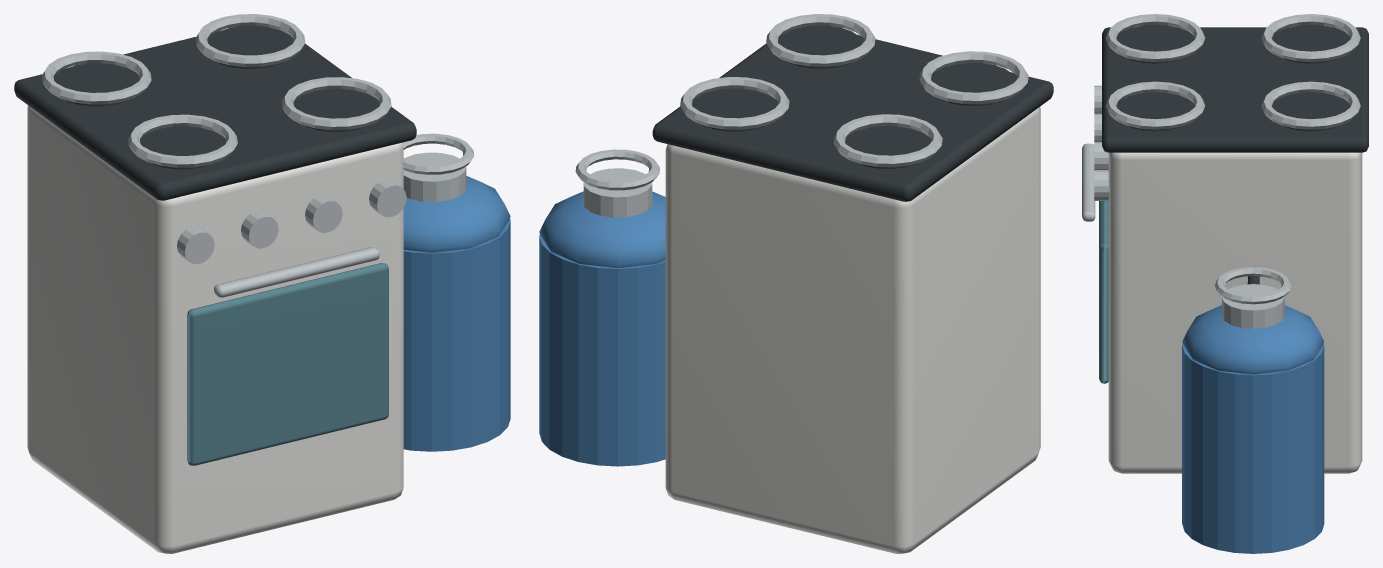
Rendered from gas_cooker_with_cylinder.glb.
3 renders of one model, left to right at view 1: azimuth 30°, elevation 25°; view 2: azimuth 150°, elevation 25°; view 3: azimuth 270°, elevation 25°, orthographic. The views are drawn at different scales.
Parts seen in each view (by area): view 1: oven, oven door, hob, gas bottle, cylinder shoulder, burner ring.001, burner ring, burner ring.002, burner ring.003, oven handle, cylinder neck, gas burner (+8 smaller); view 2: oven, hob, gas bottle, cylinder shoulder, burner ring, burner ring.001, burner ring.002, burner ring.003, cylinder neck, gas burner.003, gas burner.002, gas burner (+2 smaller); view 3: oven, gas bottle, hob, cylinder shoulder, burner ring.002, burner ring.003, burner ring.001, burner ring, cylinder neck, oven door, gas burner.001, gas burner (+6 smaller).
Part boxes in pixels (<box>): oven: <box>27,105,403,553</box>; oven door: <box>187,263,388,465</box>; hob: <box>14,27,416,200</box>; gas bottle: <box>403,219,510,451</box>; cylinder shoulder: <box>403,176,510,252</box>; burner ring.001: <box>42,51,151,104</box>; burner ring: <box>128,114,237,167</box>; burner ring.002: <box>281,77,391,130</box>; burner ring.003: <box>195,14,305,67</box>; oven handle: <box>214,247,379,297</box>; cylinder neck: <box>403,152,466,202</box>; gas burner: <box>141,126,224,169</box>; oven: <box>665,107,1040,553</box>; hob: <box>652,27,1053,201</box>; gas bottle: <box>539,234,665,466</box>; cylinder shoulder: <box>539,191,665,268</box>; burner ring: <box>919,51,1028,104</box>; burner ring.001: <box>833,114,942,167</box>; burner ring.002: <box>766,14,875,66</box>; burner ring.003: <box>680,77,789,129</box>; cylinder neck: <box>583,168,652,217</box>; gas burner.003: <box>693,88,776,131</box>; gas burner.002: <box>779,25,862,68</box>; gas burner: <box>932,63,1015,105</box>; oven: <box>1108,152,1362,473</box>; gas bottle: <box>1182,343,1324,553</box>; hob: <box>1102,27,1368,152</box>; cylinder shoulder: <box>1182,305,1324,374</box>; burner ring.002: <box>1105,81,1205,129</box>; burner ring.003: <box>1261,81,1360,129</box>; burner ring.001: <box>1261,14,1360,61</box>; burner ring: <box>1106,14,1204,62</box>; cylinder neck: <box>1222,284,1284,328</box>; oven door: <box>1099,201,1108,383</box>; gas burner.001: <box>1273,24,1348,63</box>; gas burner: <box>1117,24,1193,63</box>.
Bounding box in the file's own units: 0.995 × 0.8854 × 0.645.
